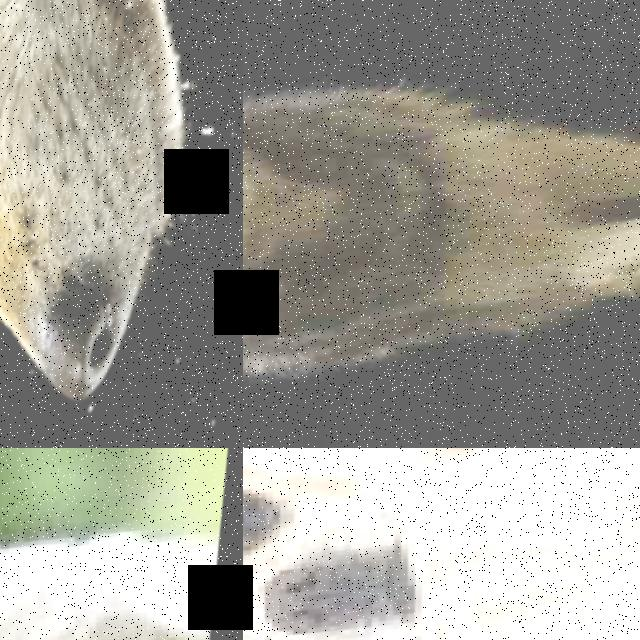dog: (243, 448, 640, 640), (0, 466, 233, 640), (243, 448, 640, 497)
wolf: (243, 13, 640, 419), (0, 0, 243, 447)
